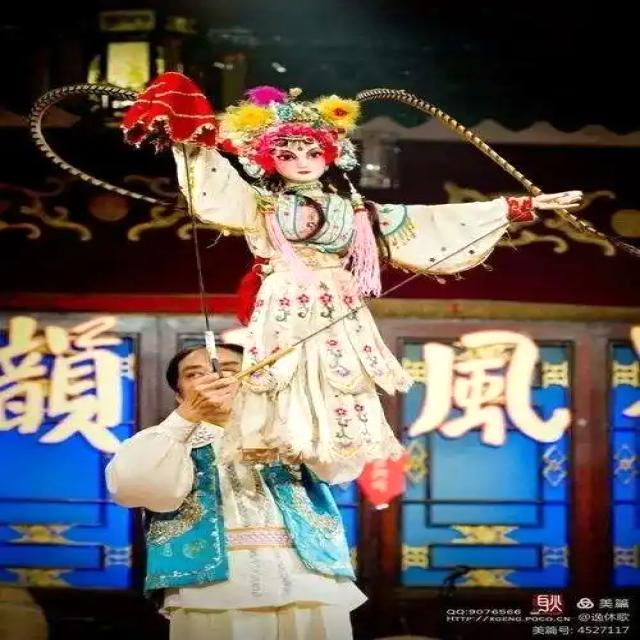Reeves-s Pheasant: (356, 88, 539, 195), (27, 83, 159, 204), (566, 215, 640, 264)
